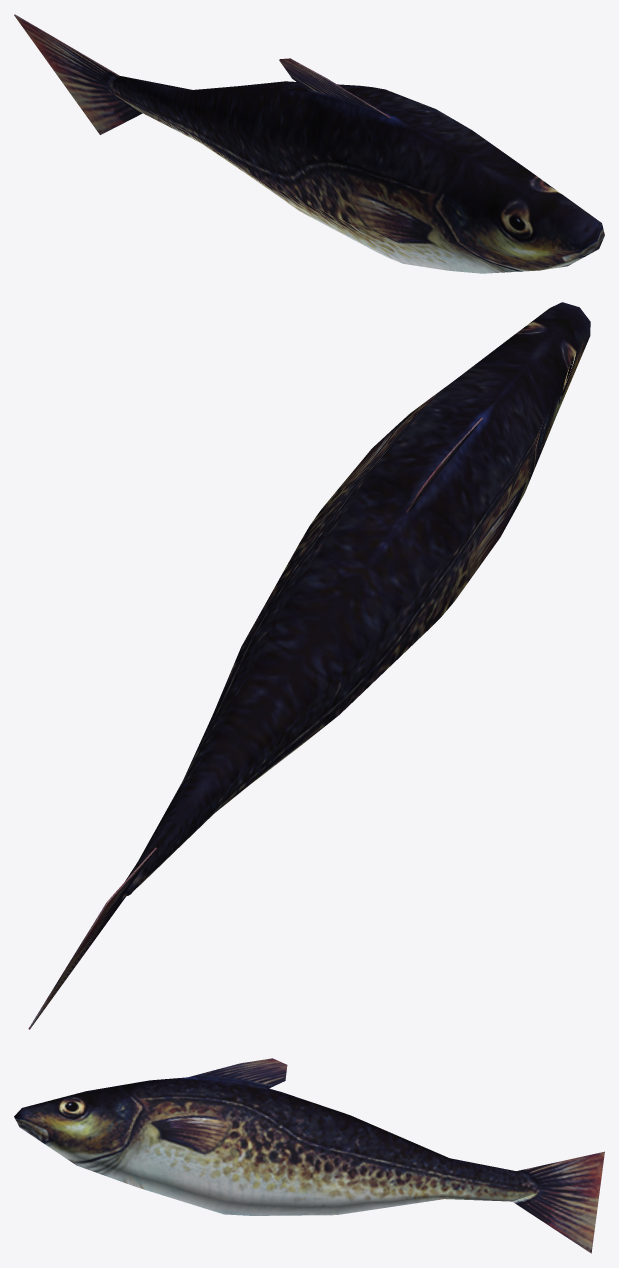
Rendered from fish a.fbx.
3 renders of one model, top to bottom at view 1: azimuth 30°, elevation 25°; view 2: azimuth 150°, elevation 25°; view 3: azimuth 270°, elevation 25°, orthographic. The views are drawn at different scales.
Visible parts, largest first — view 1: fish1; view 2: fish1; view 3: fish1.
Boxes of the visible parts, x1,y1,x2,y2 form: fish1: (14, 14, 604, 273); fish1: (28, 302, 590, 1029); fish1: (14, 1058, 604, 1253).
Bounding box in the file's own units: 5.53 × 10.44 × 32.1.
